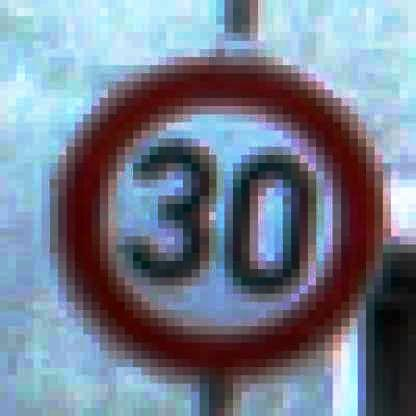Speed Limit -30-: (49, 55, 384, 382)
